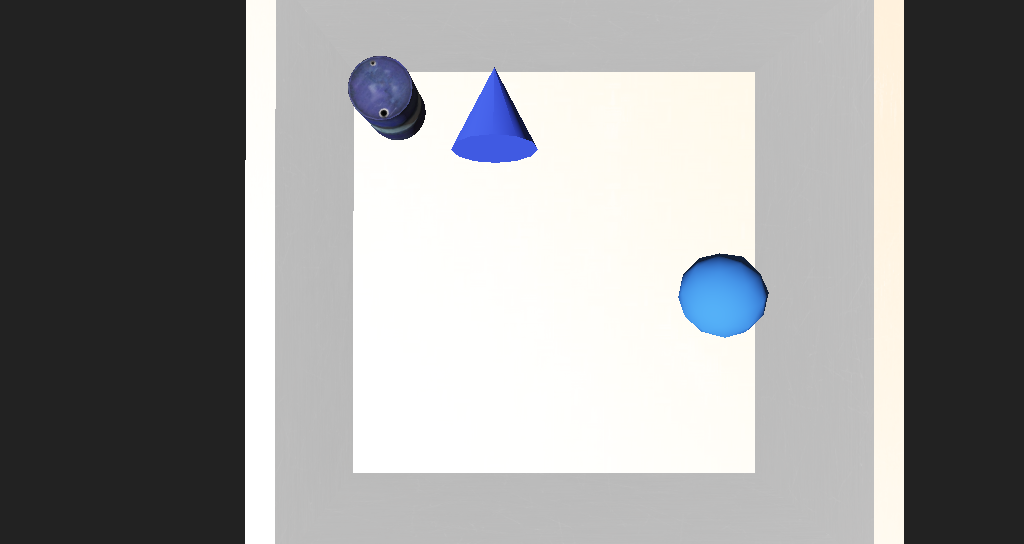cone: (354, 157, 414, 196)
cylinder: (424, 150, 492, 212)
sphere: (593, 260, 660, 303)
